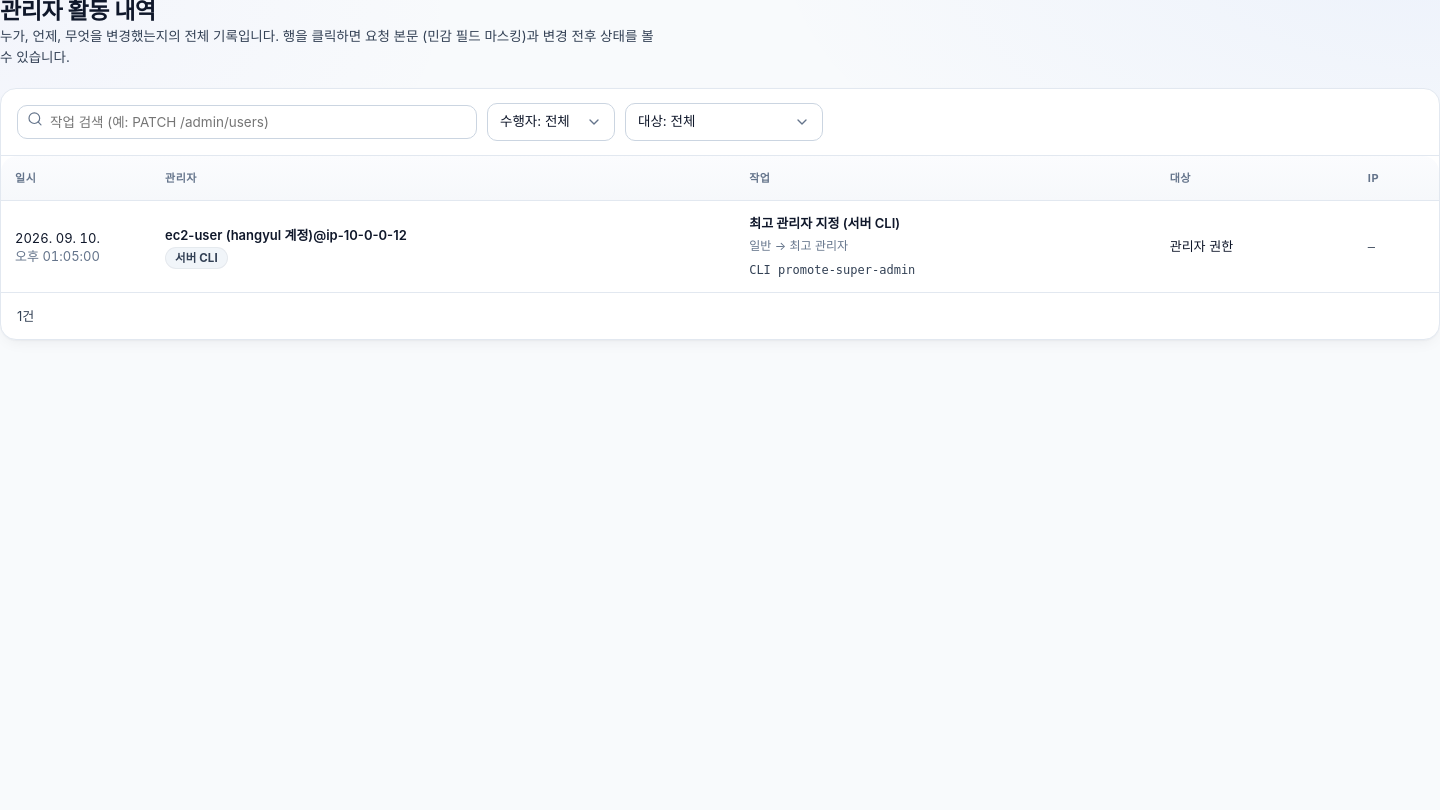
it: a row from the server CLI › names who ran it on the server and marks it 서버 CLI
expect the text "ec2-user (hangyul 계정)@ip-10-0-0-12" is shown: met, box [165,227,407,243]
expect the text "서버 CLI" is shown: met, box [165,247,228,269]
Click the text "최고 관리자 지정 (서버 CLI)". click: (825, 223)
box: [749,215,900,231]
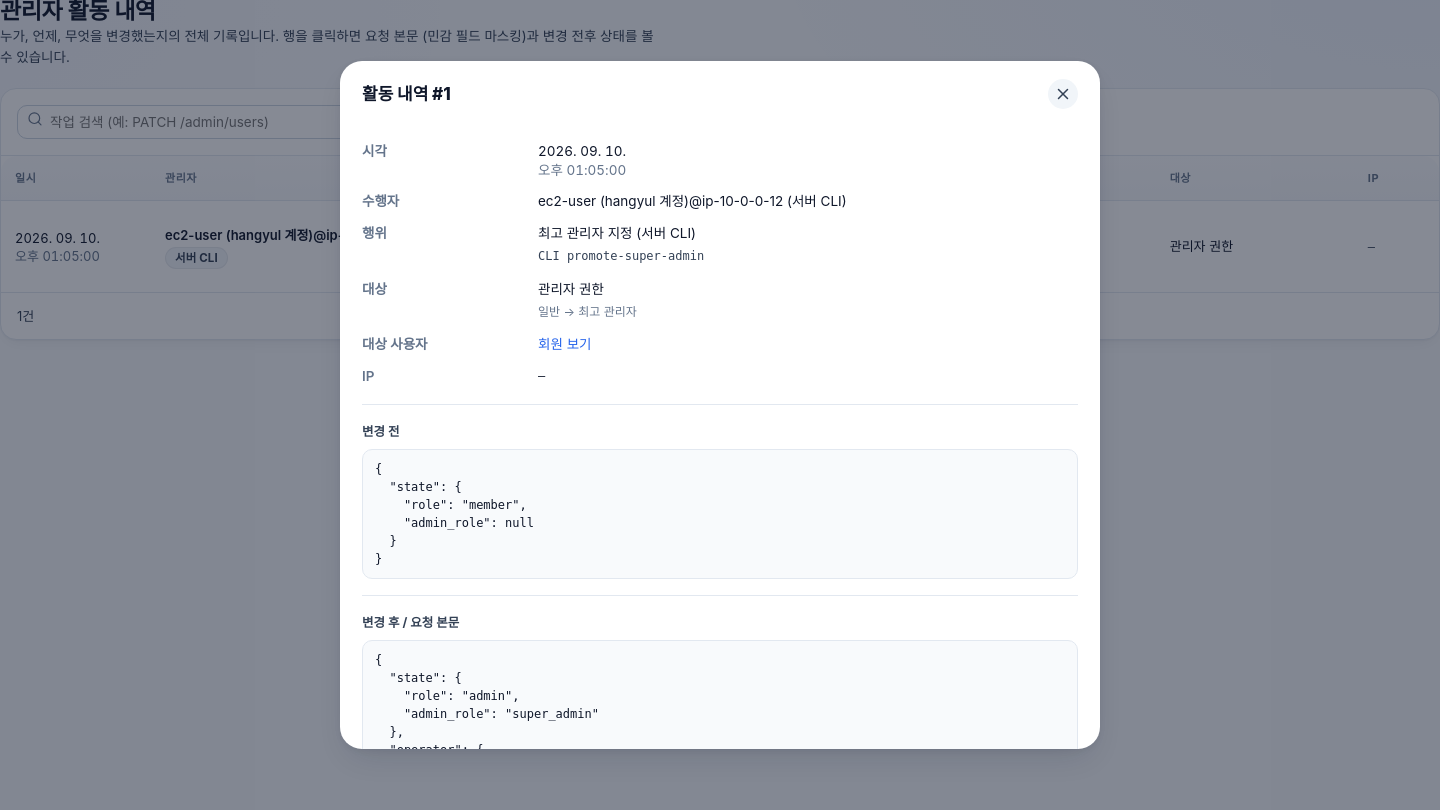
expect the text "ec2-user (hangyul 계정)@ip-10-0-0-12 (서버 CLI)" is shown: met, box [538,193,847,209]
